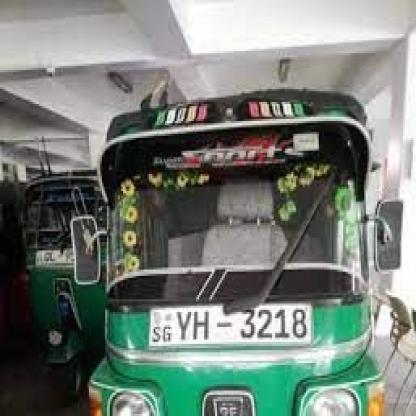number plate: (149, 304, 307, 345)
three wheeler front: (67, 89, 402, 416)
